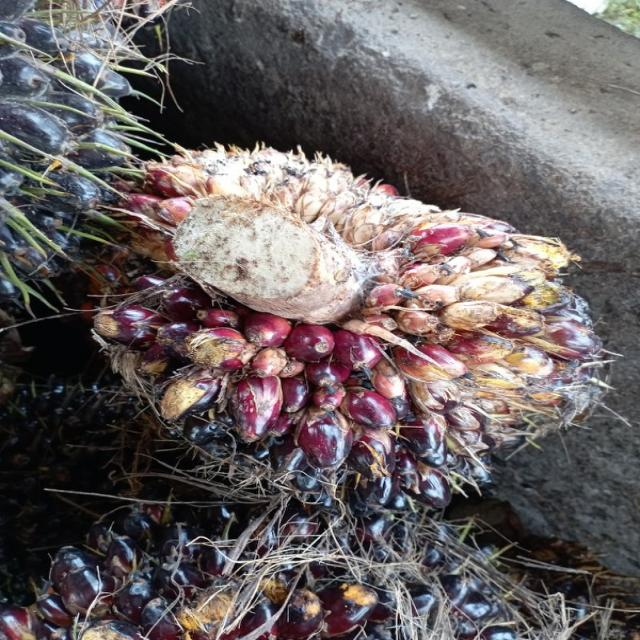fraksi 1: (36, 112, 617, 514)
